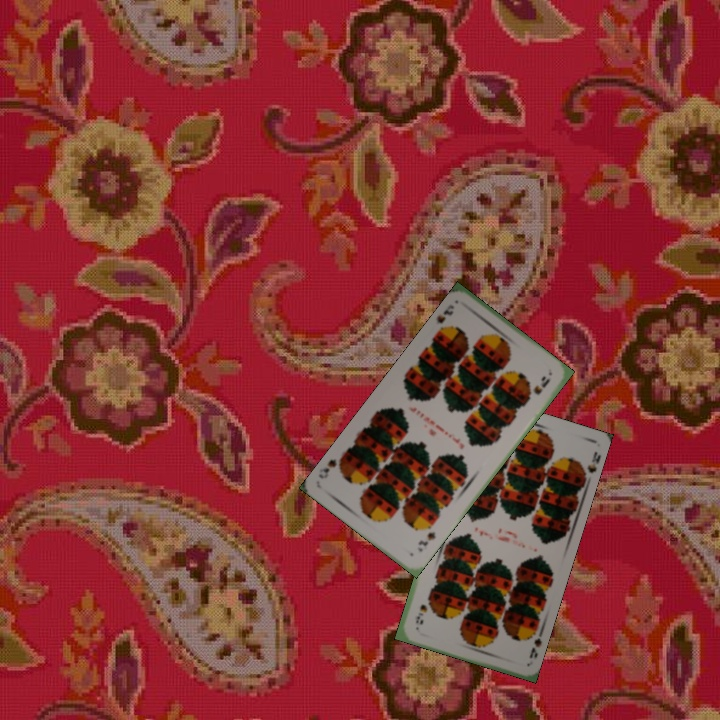S9: (432, 300, 457, 333), (524, 624, 546, 661), (413, 528, 438, 555)
